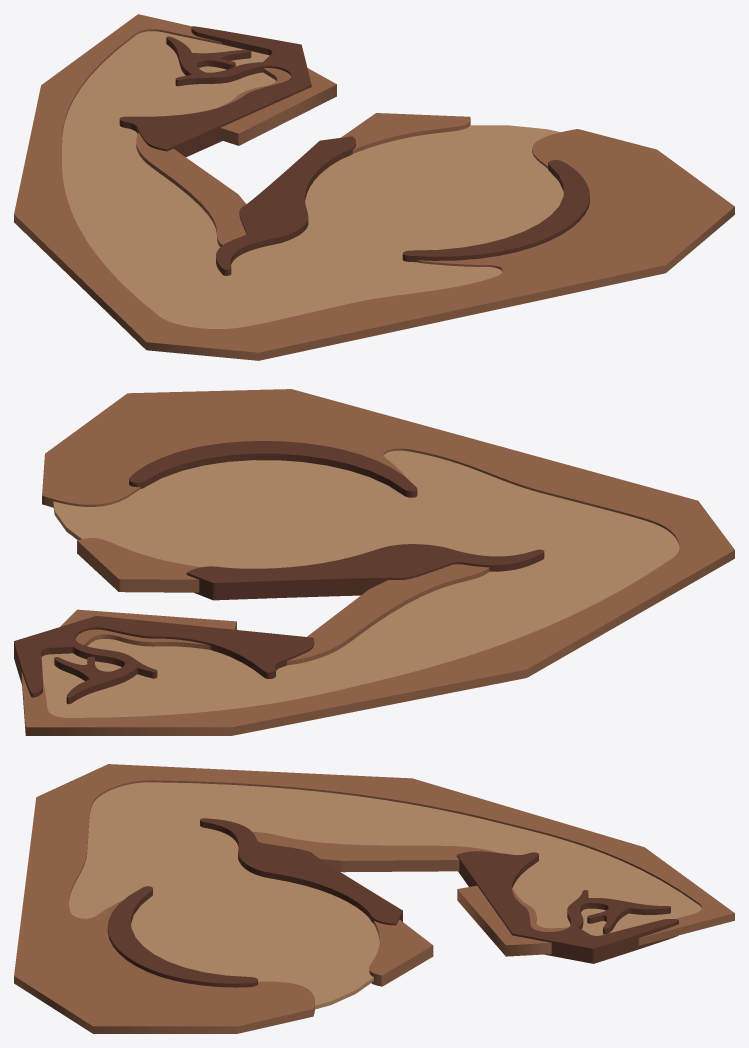
The model's file is emoji_u1f4aa_1f3fd.glb.
The picture shows the model from 3 angles, top to bottom: view 1: azimuth 30°, elevation 25°; view 2: azimuth 150°, elevation 25°; view 3: azimuth 270°, elevation 25°; orthographic projection. The views are drawn at different scales.
Visible parts, largest first — view 1: emoji_u1f4aa_1f3fd; view 2: emoji_u1f4aa_1f3fd; view 3: emoji_u1f4aa_1f3fd.
Part boxes in pixels (box(x1,y1,x2,y2)): emoji_u1f4aa_1f3fd: box(14, 14, 734, 360); emoji_u1f4aa_1f3fd: box(14, 389, 734, 735); emoji_u1f4aa_1f3fd: box(14, 764, 734, 1033).
Size of the model in its own units: 0.0299 by 0.0008 by 0.0347.
